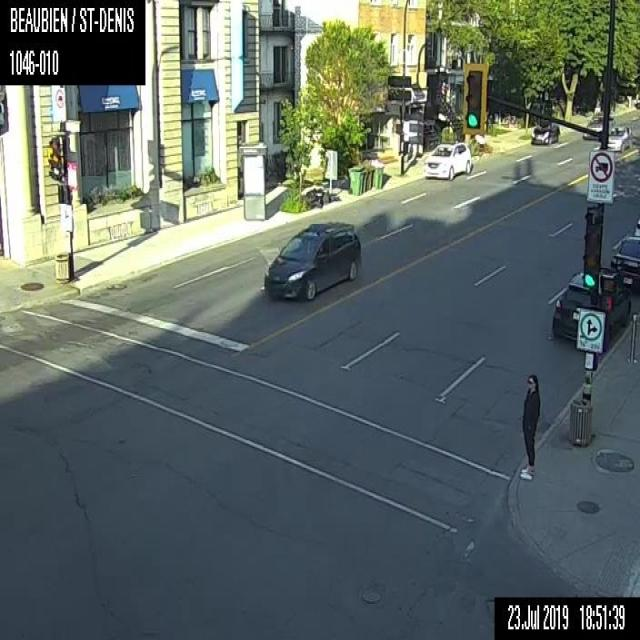pedestrian: (519, 374, 540, 478)
vehicle: (263, 220, 360, 300), (552, 266, 630, 352), (423, 141, 470, 180), (610, 233, 639, 294), (582, 114, 614, 139), (606, 125, 632, 151), (530, 122, 560, 144), (633, 215, 639, 236)
